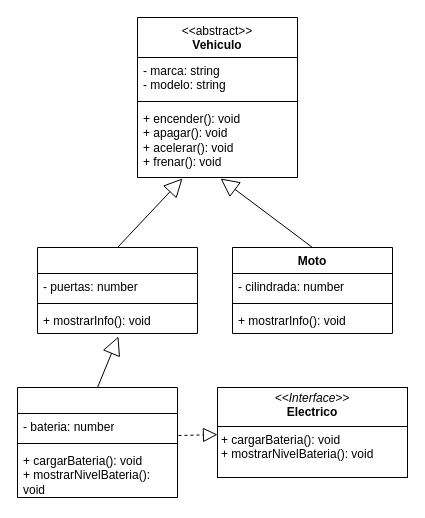
Some shapes in this 425 by 518 pixel diagram are drawn without their labels. Here are the shapes that lost their labels. From the top down, the box of each, then its label:
(36, 246, 198, 334): Auto
(16, 386, 178, 498): AutoElectrico
